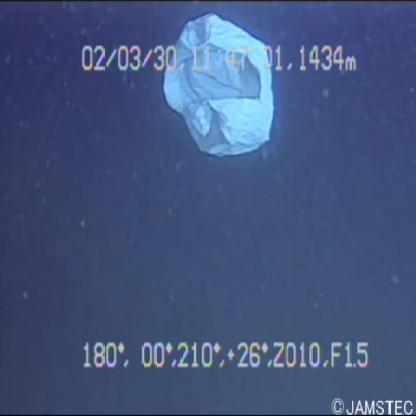Rác: (150, 10, 280, 160)
